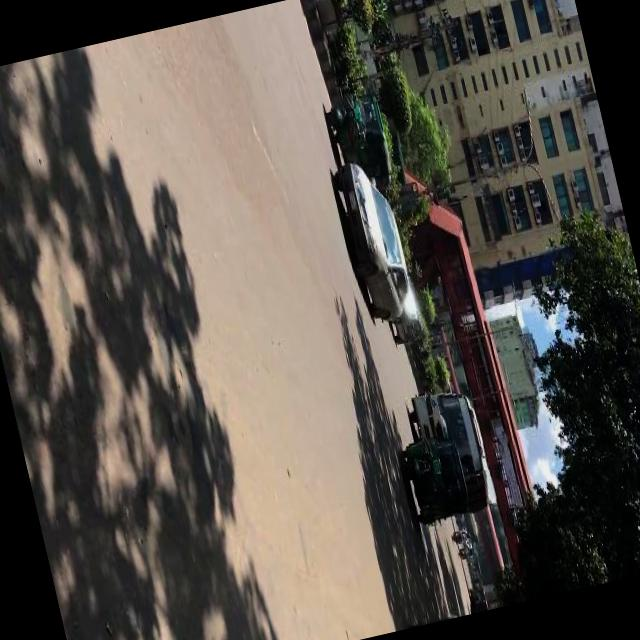bus: (405, 378, 497, 518), (454, 511, 481, 546)
car: (327, 154, 419, 325), (380, 272, 427, 346)
motorcycle: (317, 81, 399, 200), (394, 428, 473, 526), (449, 523, 473, 547), (456, 542, 476, 562)
